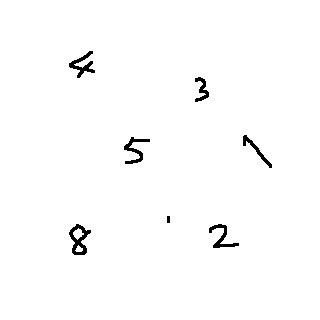.: (162, 212, 179, 227)
1: (233, 128, 280, 175)
2: (199, 215, 247, 254)
3: (184, 75, 213, 107)
4: (55, 43, 108, 91)
5: (107, 134, 162, 169)
8: (66, 218, 94, 261)
